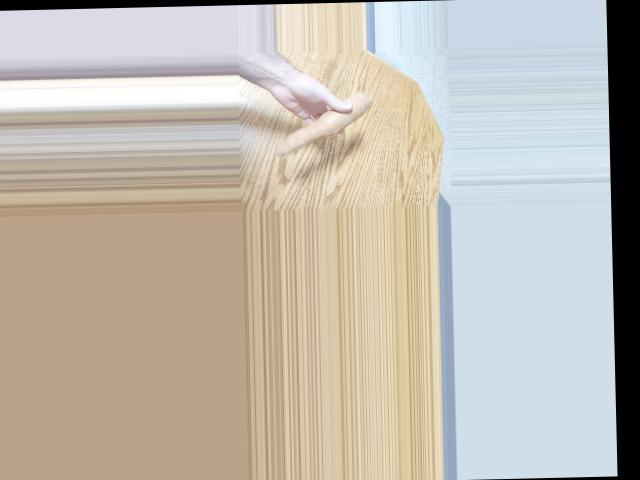sweet_potato: (276, 95, 384, 149)
